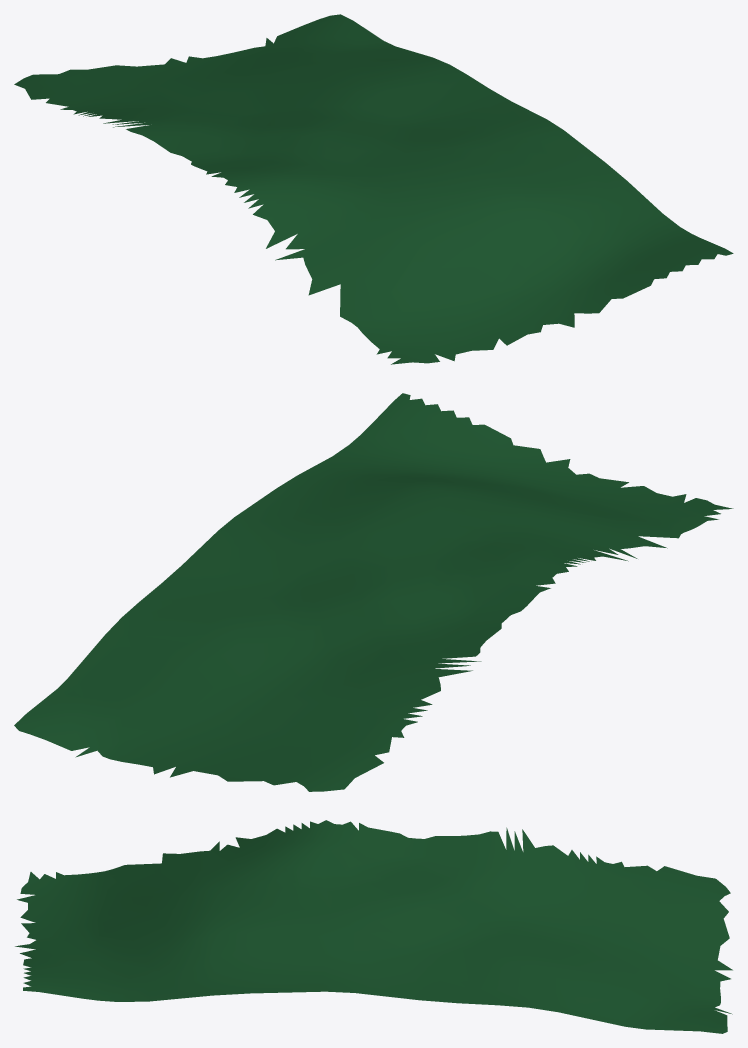
The model's file is payo_land_xm5_ym2_lod1.glb.
3 renders of one model, top to bottom at view 1: azimuth 30°, elevation 25°; view 2: azimuth 150°, elevation 25°; view 3: azimuth 270°, elevation 25°, orthographic. The views are drawn at different scales.
Parts seen in each view (by area): view 1: payo_land_xm5_ym2; view 2: payo_land_xm5_ym2; view 3: payo_land_xm5_ym2.
Boxes of the visible parts, x1,y1,x2,y2 form: payo_land_xm5_ym2: (14, 14, 733, 364); payo_land_xm5_ym2: (14, 393, 733, 791); payo_land_xm5_ym2: (15, 820, 732, 1033).
Bounding box in the file's own units: 132 × 31.07 × 264.
